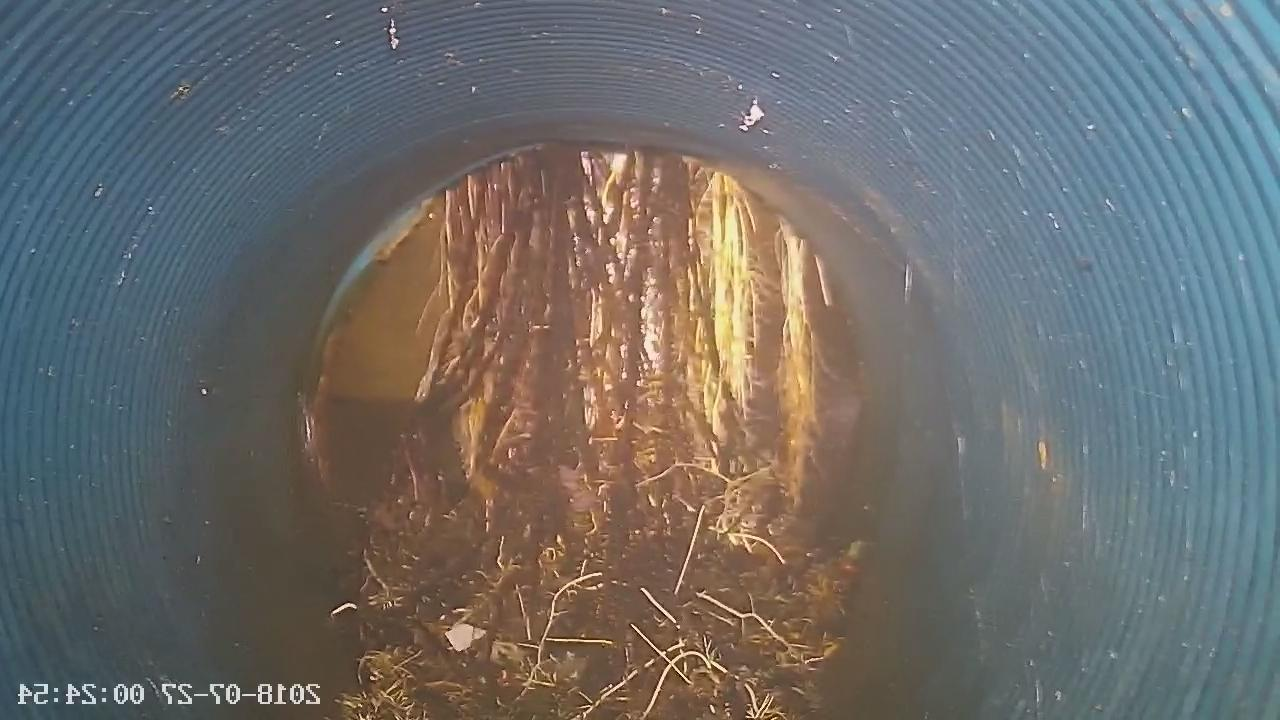SG: (301, 145, 880, 719)
